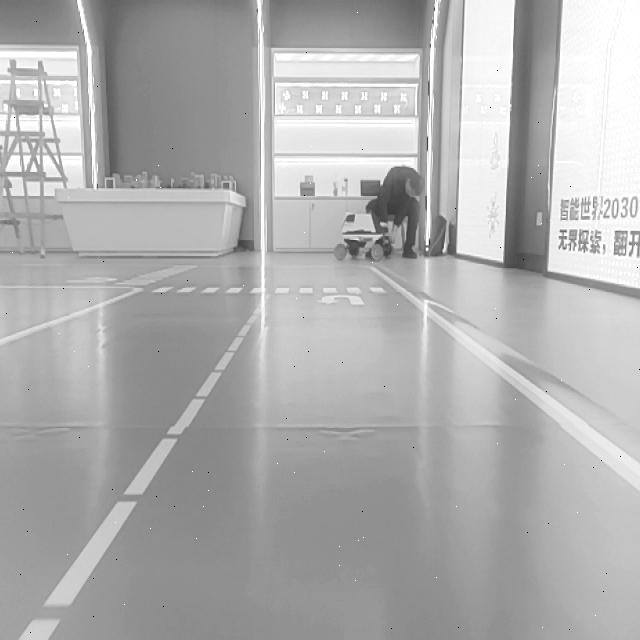left_lane: (16, 298, 263, 636)
right_lane: (383, 273, 639, 486), (0, 288, 149, 351)
